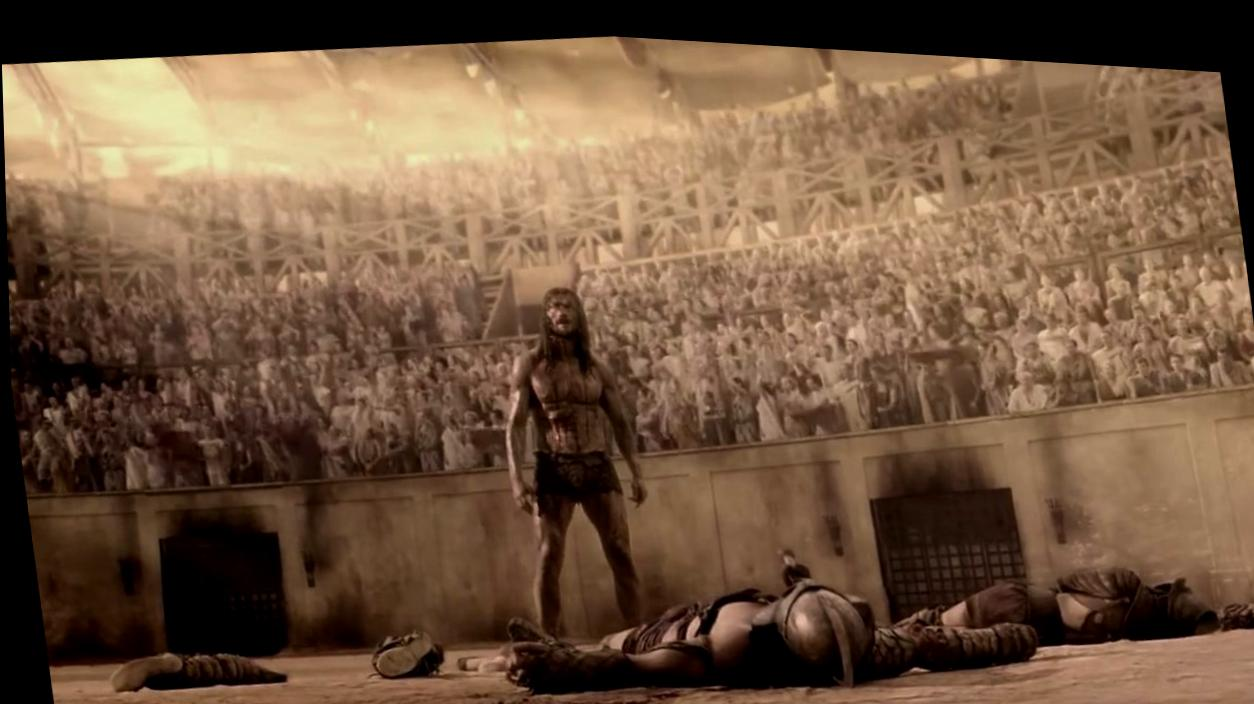Fire: (528, 287, 604, 446)
